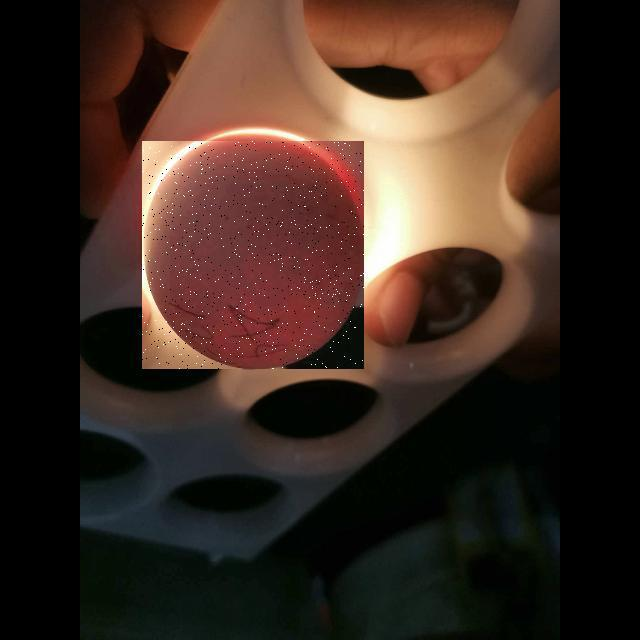A - Good: (132, 137, 366, 376)
